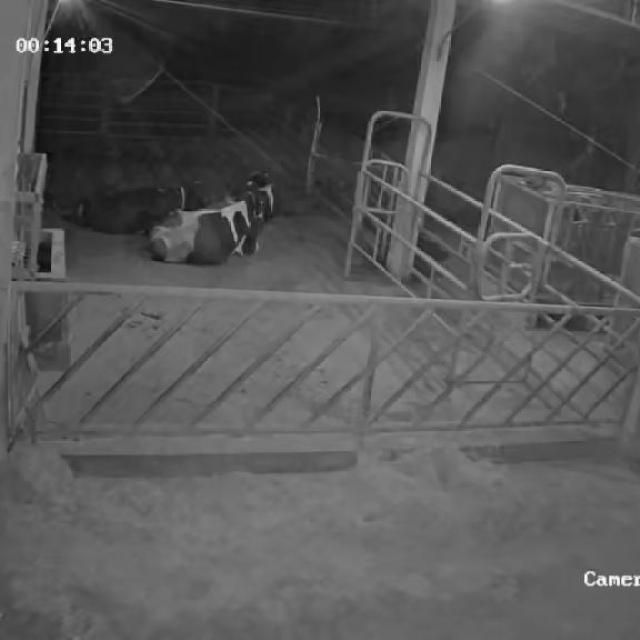lying down: (146, 192, 262, 267), (76, 173, 194, 244), (225, 172, 278, 220)
